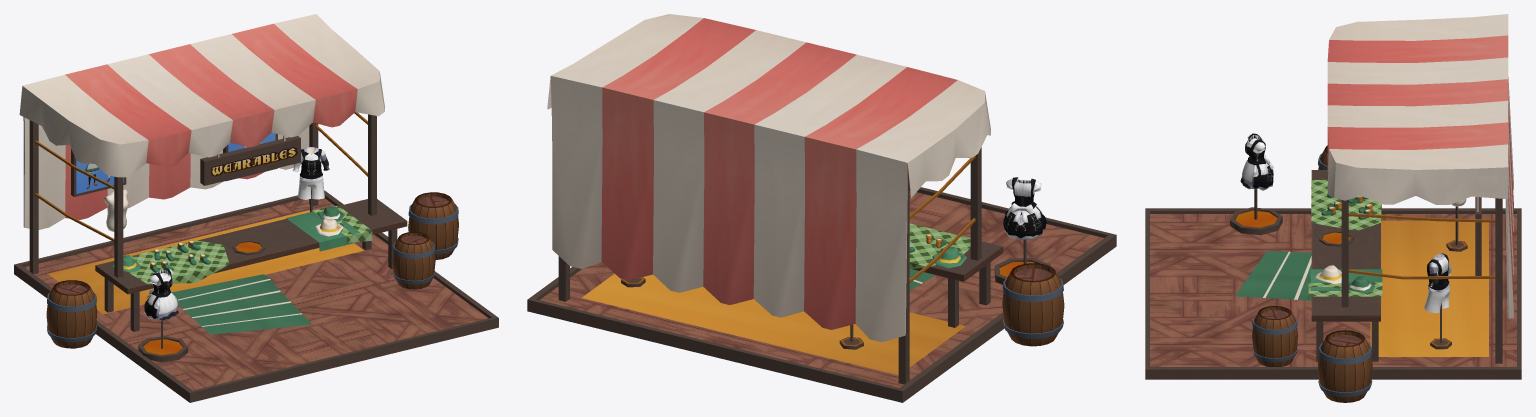
File: Booth_Wearables.glb
3 views of the same model, side by side, from view 1: azimuth 30°, elevation 25°; view 2: azimuth 150°, elevation 25°; view 3: azimuth 270°, elevation 25° (orthographic). The views are drawn at different scales.
Visible parts, largest first — view 1: Booth_Wearables, Booth_Wearables_Platform01; view 2: Booth_Wearables, Booth_Wearables_Platform01; view 3: Booth_Wearables, Booth_Wearables_Platform01, Booth_Wearables_Platform01__1_.
Part boxes in pixels (x1=…): Booth_Wearables: x1=14, y1=14, x2=498, y2=402; Booth_Wearables_Platform01: x1=138, y1=336, x2=187, y2=362; Booth_Wearables: x1=527, y1=14, x2=1116, y2=402; Booth_Wearables_Platform01: x1=994, y1=258, x2=1050, y2=284; Booth_Wearables: x1=1145, y1=14, x2=1521, y2=402; Booth_Wearables_Platform01: x1=1230, y1=207, x2=1282, y2=235; Booth_Wearables_Platform01__1_: x1=1319, y1=230, x2=1354, y2=246.
Size of what is drawn, in the model's own units: 8.68 by 3.94 by 6.51.
10 materials, 9 textured.
